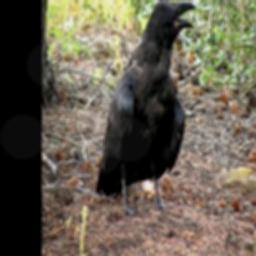Crow: (93, 0, 196, 219)
